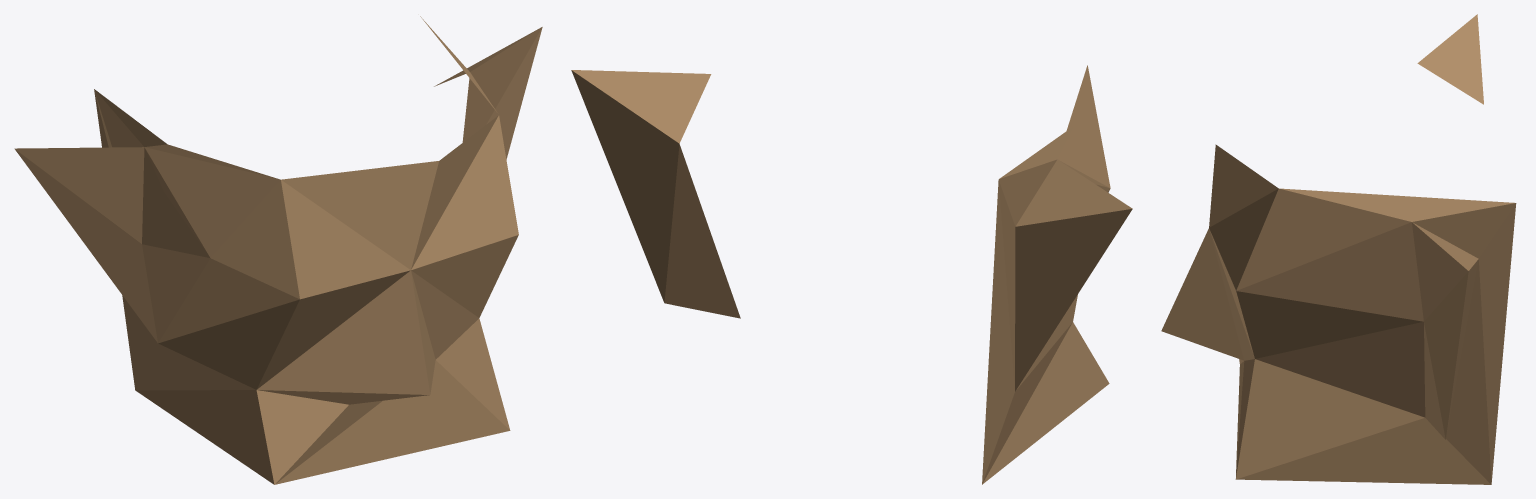
File: beast-mask.glb
3 views of the same model, side by side, from view 1: azimuth 30°, elevation 25°; view 2: azimuth 150°, elevation 25°; view 3: azimuth 270°, elevation 25° (orthographic). The views are drawn at different scales.
Visible parts, largest first — view 1: z06.stl; view 2: z06.stl; view 3: z06.stl.
Boxes of the visible parts, left/top/right/bottom form: z06.stl: left=14, top=16, right=542, bottom=484; z06.stl: left=571, top=65, right=1132, bottom=484; z06.stl: left=1161, top=14, right=1516, bottom=484.
Bounding box in the file's own units: 515 × 285 × 308.
